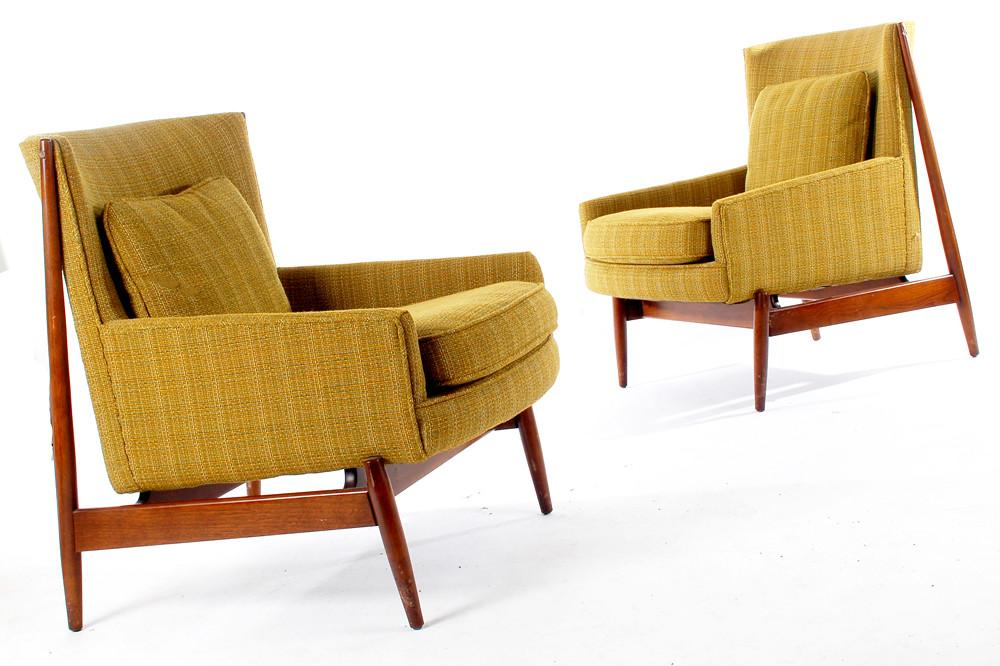chair: (20, 111, 561, 633), (578, 20, 980, 413)
